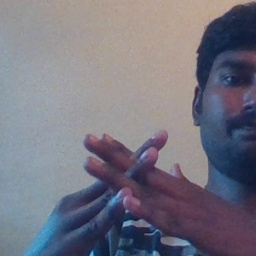W: (62, 114, 192, 252)
